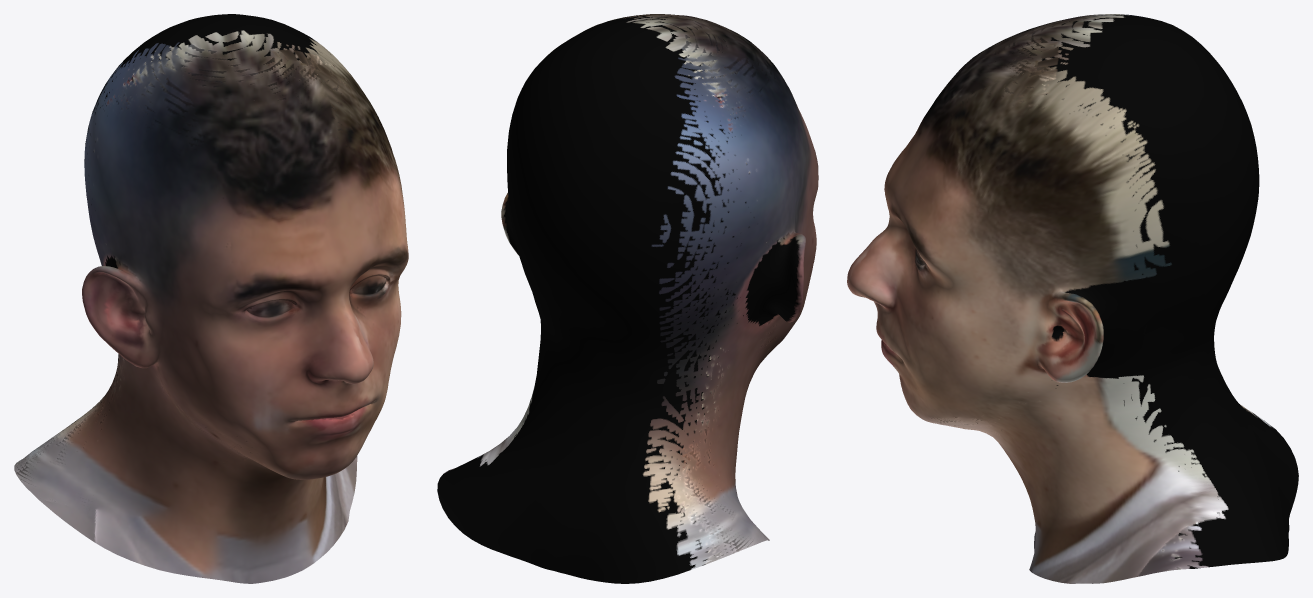
3 views of the same model, side by side, from view 1: azimuth 30°, elevation 25°; view 2: azimuth 150°, elevation 25°; view 3: azimuth 270°, elevation 25° (orthographic). The views are drawn at different scales.
Parts seen in each view (by area): view 1: FBHead; view 2: FBHead; view 3: FBHead.
Boxes of the visible parts, x1=… form: FBHead: x1=14, y1=14, x2=408, y2=583; FBHead: x1=437, y1=14, x2=818, y2=583; FBHead: x1=847, y1=14, x2=1298, y2=583.
Size of the model in its own units: 1.61 by 2.54 by 1.95.
1 material, 1 textured.
